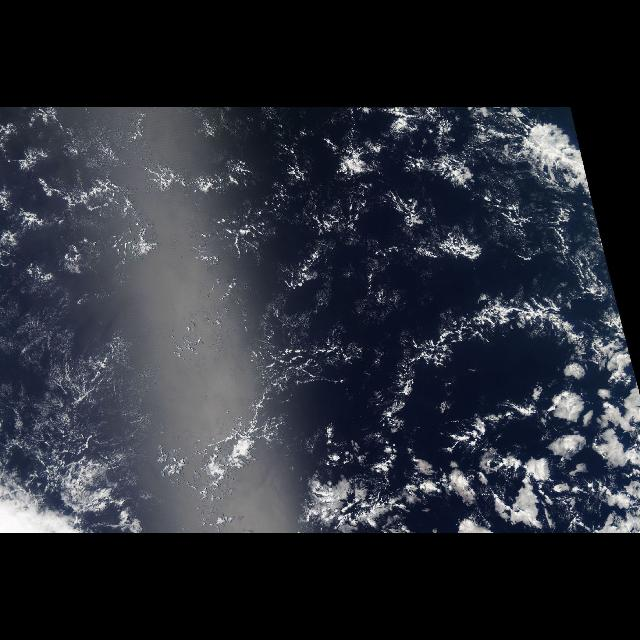Flower: (378, 318, 640, 532)
Sugar: (3, 111, 420, 482)
